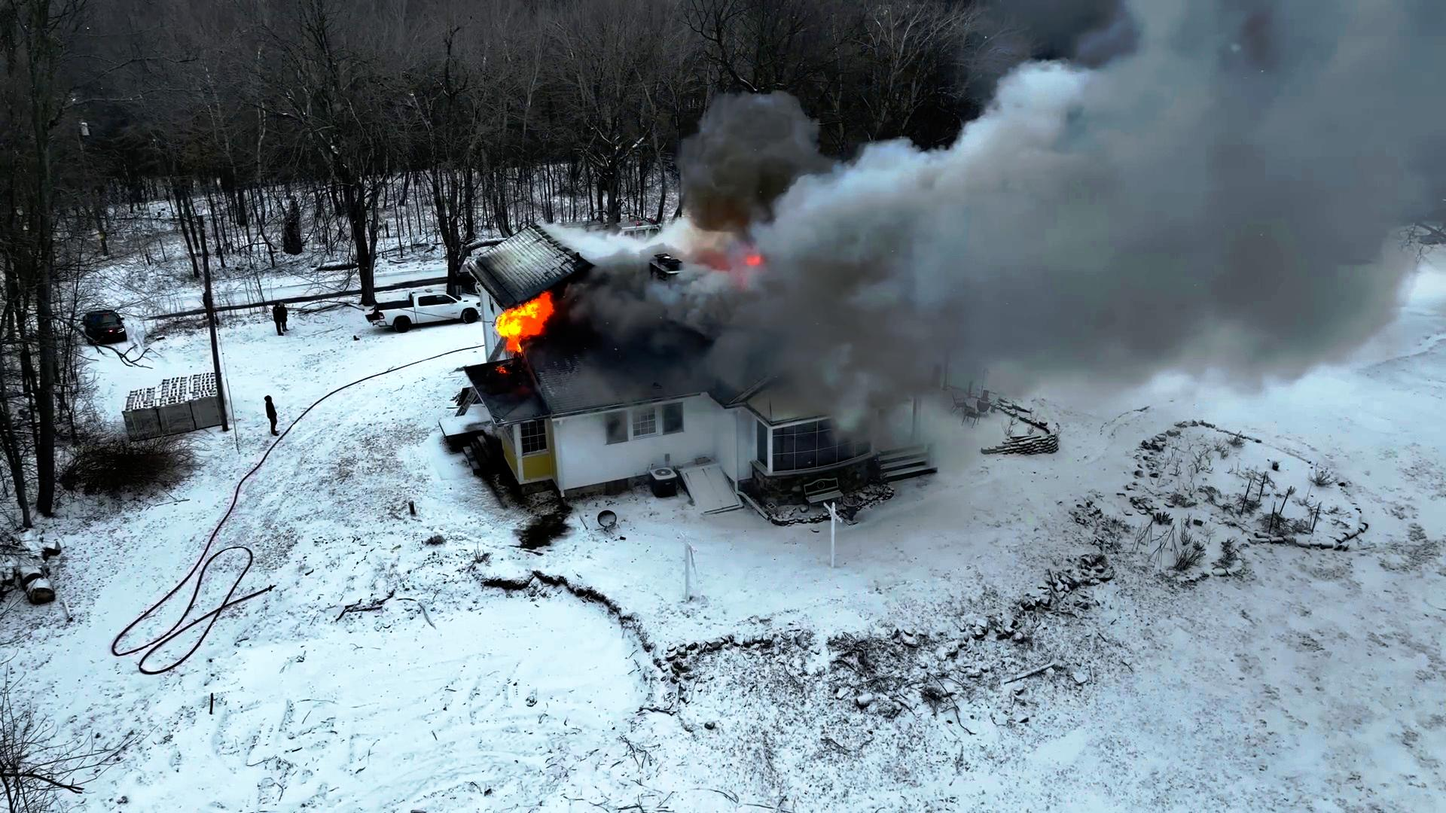fire: (486, 286, 554, 353)
smoke: (737, 126, 1166, 296)
